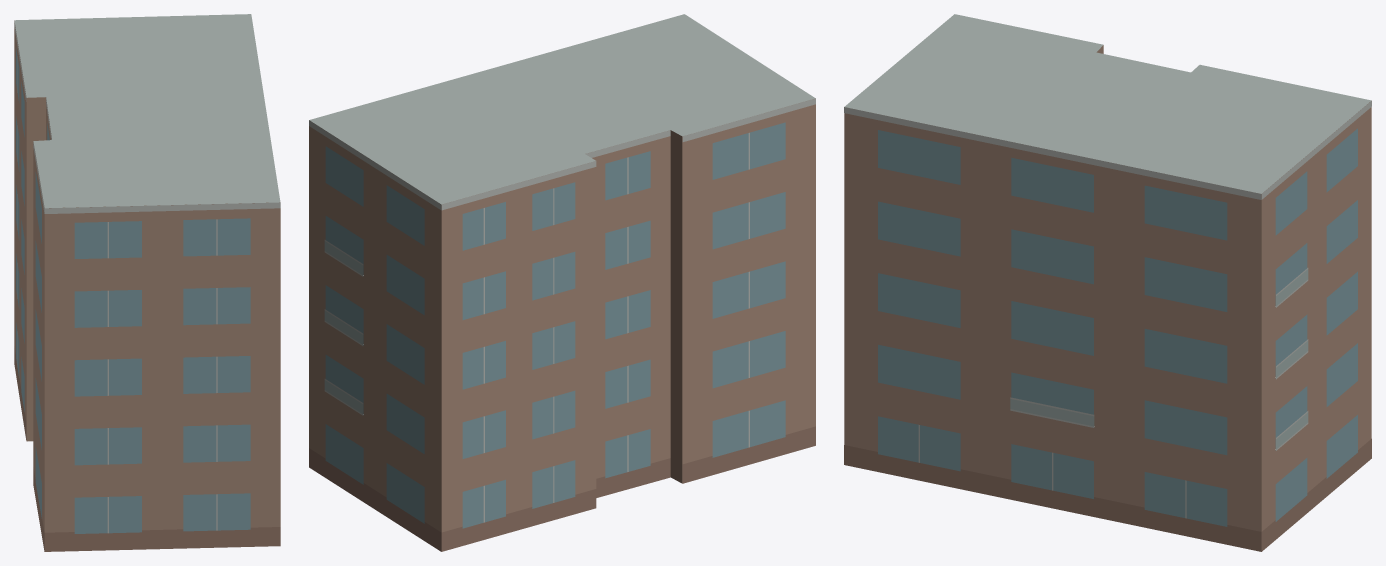
File: survey-upis-32891281.glb
3 views of the same model, side by side, from view 1: azimuth 30°, elevation 25°; view 2: azimuth 150°, elevation 25°; view 3: azimuth 270°, elevation 25° (orthographic). The views are drawn at different scales.
Visible parts, largest first — view 1: survey-upis-32891281.tmp; view 2: survey-upis-32891281.tmp; view 3: survey-upis-32891281.tmp.
Boxes of the visible parts, bbox=[...] form: survey-upis-32891281.tmp: bbox=[14, 14, 280, 551]; survey-upis-32891281.tmp: bbox=[309, 14, 815, 551]; survey-upis-32891281.tmp: bbox=[844, 14, 1371, 551].
Size of the model in its own units: 15.32 by 14.2 by 18.98.
